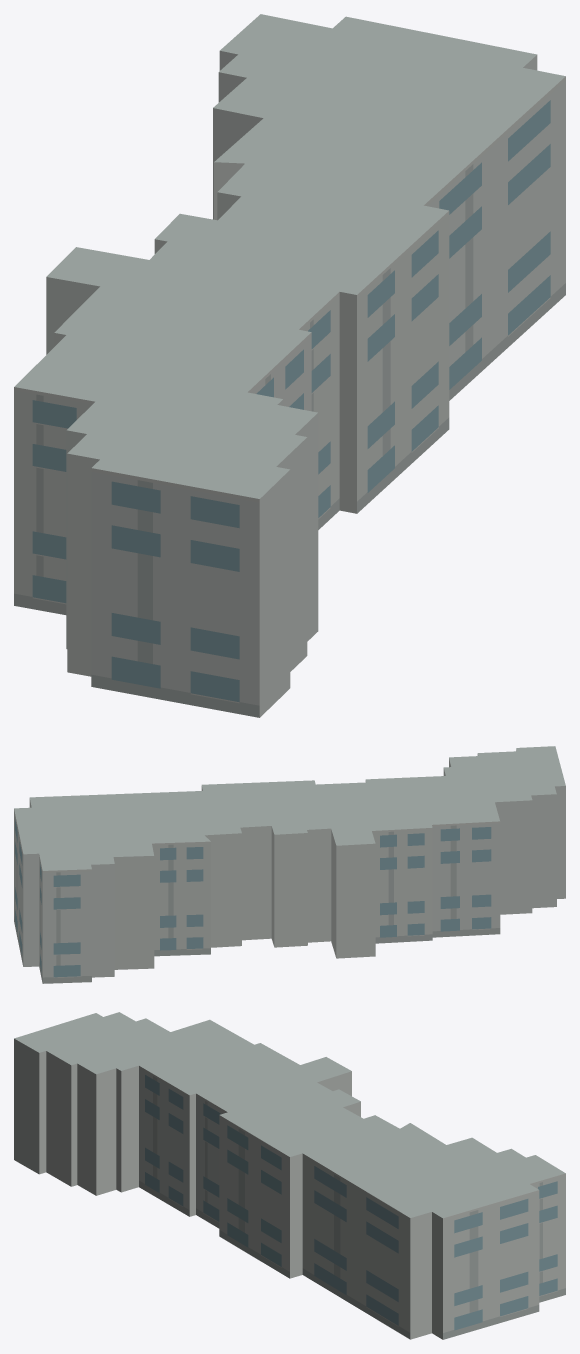
File: residential-86c46a06-c8ec-4bf8-8d62-298a0a75c32c.glb
3 renders of one model, top to bottom at view 1: azimuth 30°, elevation 25°; view 2: azimuth 150°, elevation 25°; view 3: azimuth 270°, elevation 25°, orthographic. The views are drawn at different scales.
Parts seen in each view (by area): view 1: residential-86c46a06-c8ec-4bf8-8d62-298a0a75c32c.tmp; view 2: residential-86c46a06-c8ec-4bf8-8d62-298a0a75c32c.tmp; view 3: residential-86c46a06-c8ec-4bf8-8d62-298a0a75c32c.tmp.
Boxes of the visible parts, box(x1,y1,x2,y2) form: residential-86c46a06-c8ec-4bf8-8d62-298a0a75c32c.tmp: box(14, 14, 565, 717); residential-86c46a06-c8ec-4bf8-8d62-298a0a75c32c.tmp: box(14, 746, 565, 983); residential-86c46a06-c8ec-4bf8-8d62-298a0a75c32c.tmp: box(14, 1012, 565, 1339).
Size of the model in its own units: 55.54 by 15.25 by 62.77.
